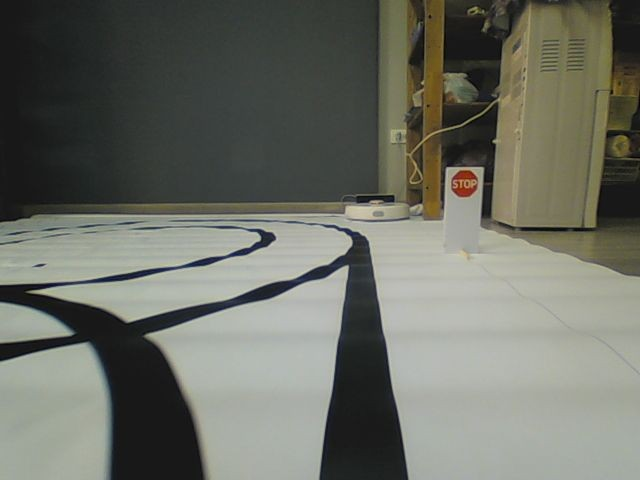Stop: (450, 169, 478, 198)
